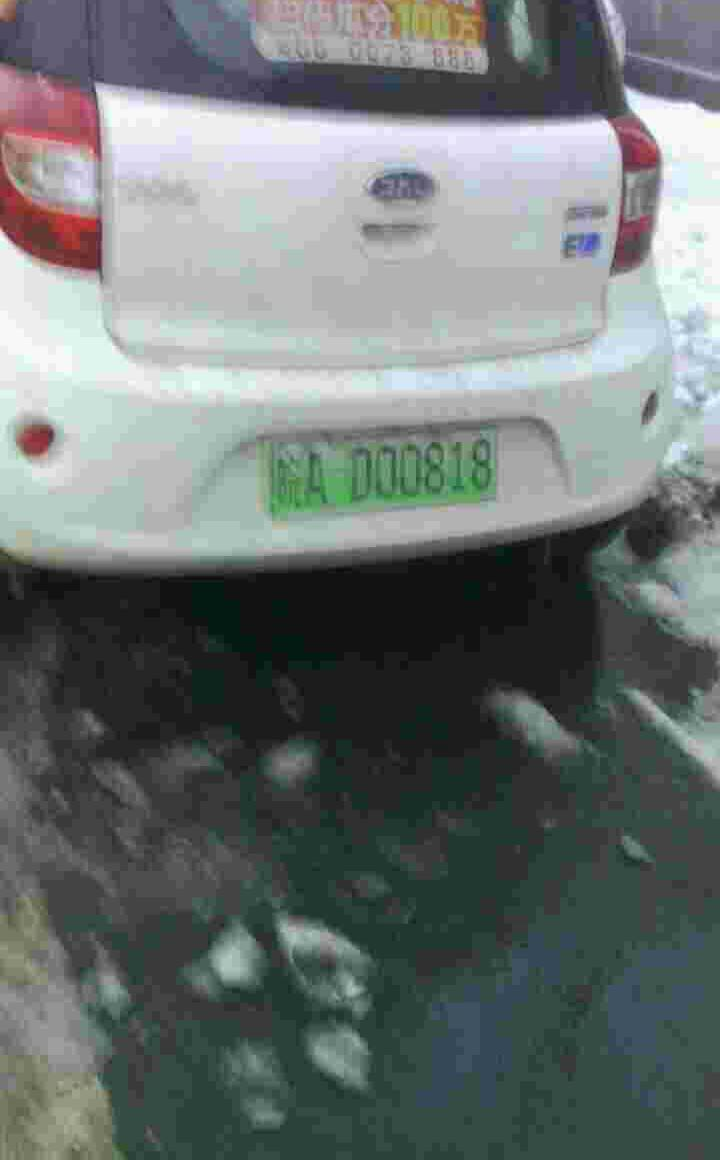car_id: (270, 424, 498, 513)
